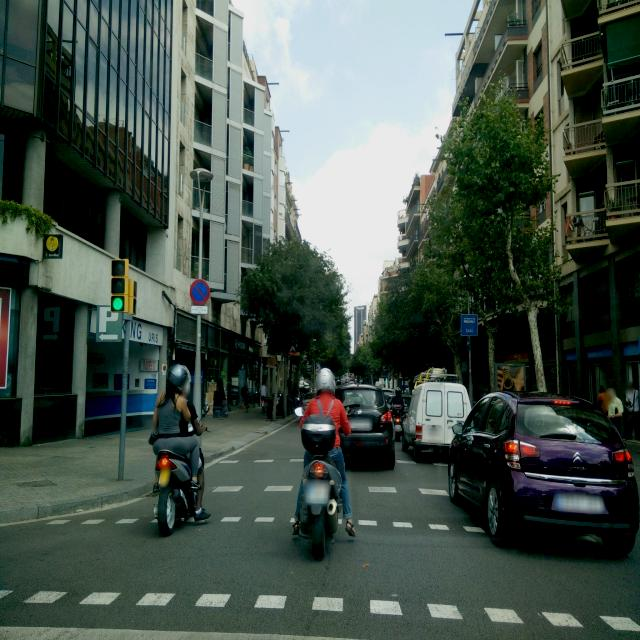bike: (292, 419, 358, 561), (146, 408, 208, 538)
car: (447, 390, 639, 555), (297, 383, 397, 467), (401, 368, 470, 462), (335, 383, 396, 471), (387, 392, 409, 440)
